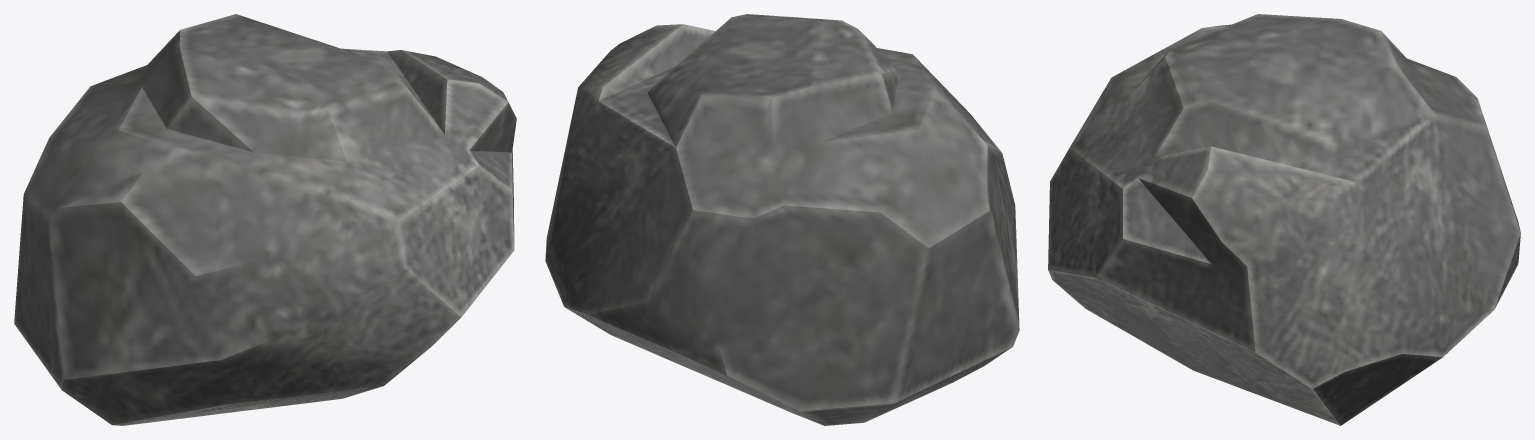
File: Rock03_Dream.glb
3 renders of one model, left to right at view 1: azimuth 30°, elevation 25°; view 2: azimuth 150°, elevation 25°; view 3: azimuth 270°, elevation 25°, orthographic. The views are drawn at different scales.
Parts seen in each view (by area): view 1: rock03_dream; view 2: rock03_dream; view 3: rock03_dream.
Boxes of the visible parts, x1,y1,x2,y2 form: rock03_dream: (14, 14, 516, 425); rock03_dream: (545, 14, 1019, 425); rock03_dream: (1048, 14, 1520, 425).
Bounding box in the file's own units: 0.5846 × 0.3904 × 0.5348.
Materials: 1 (1 with a texture image).
